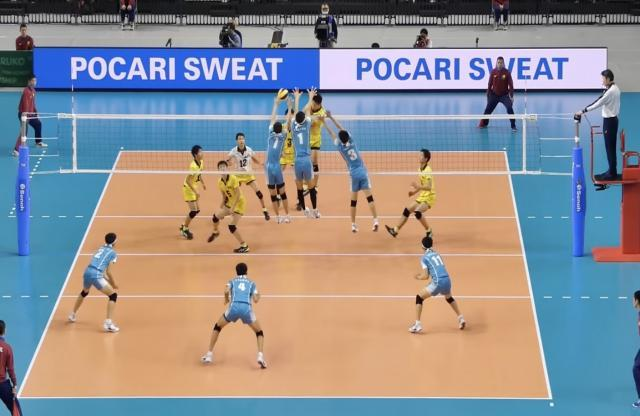block: (316, 108, 384, 240), (290, 84, 325, 222), (263, 95, 294, 227)
